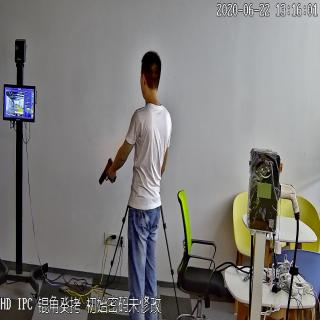gun: (99, 157, 118, 186)
